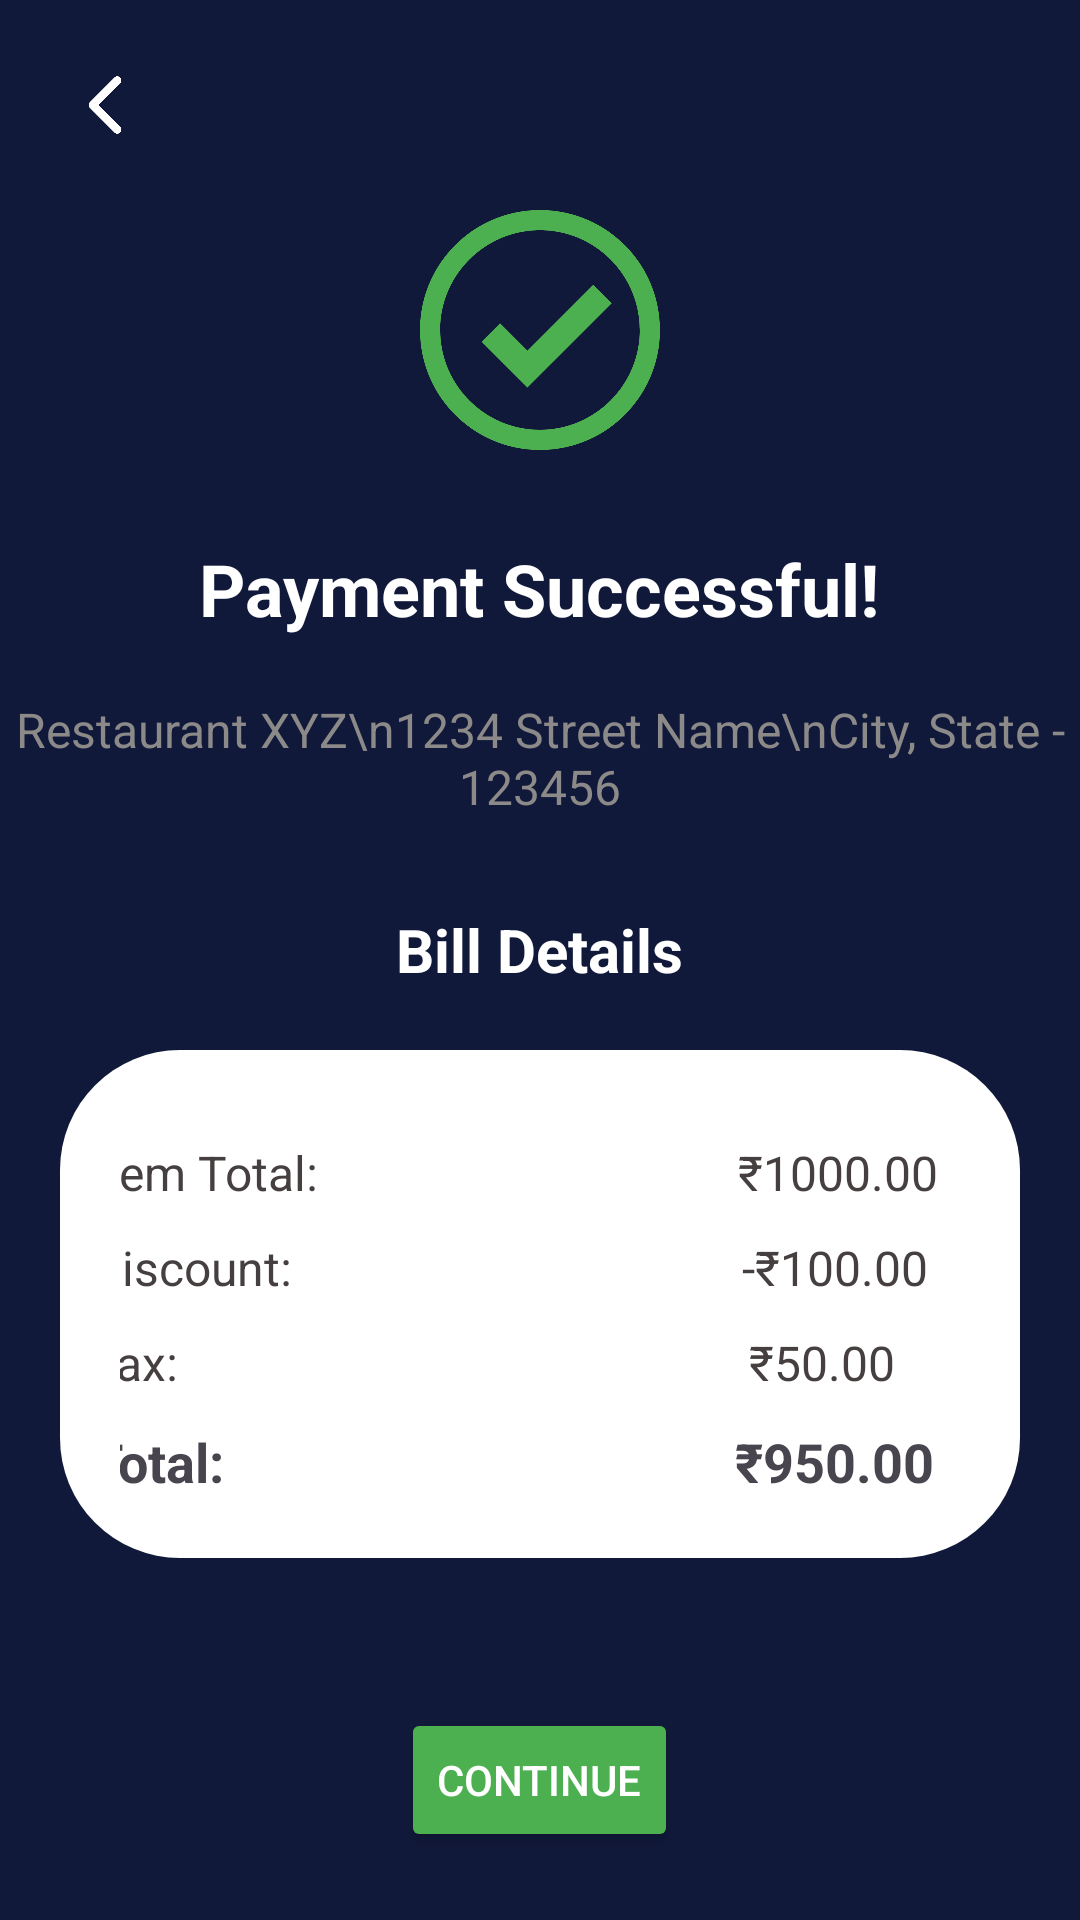

Icons on this 1080px×1920px Android screen, each with its box as [x1,y1,x2,y2]:
back: [89,76,121,134]
